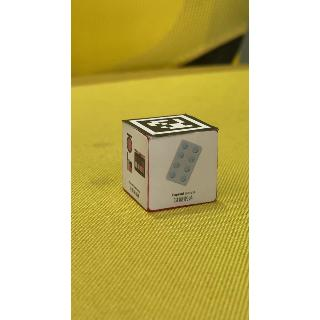Tablet: (150, 137, 221, 207)
